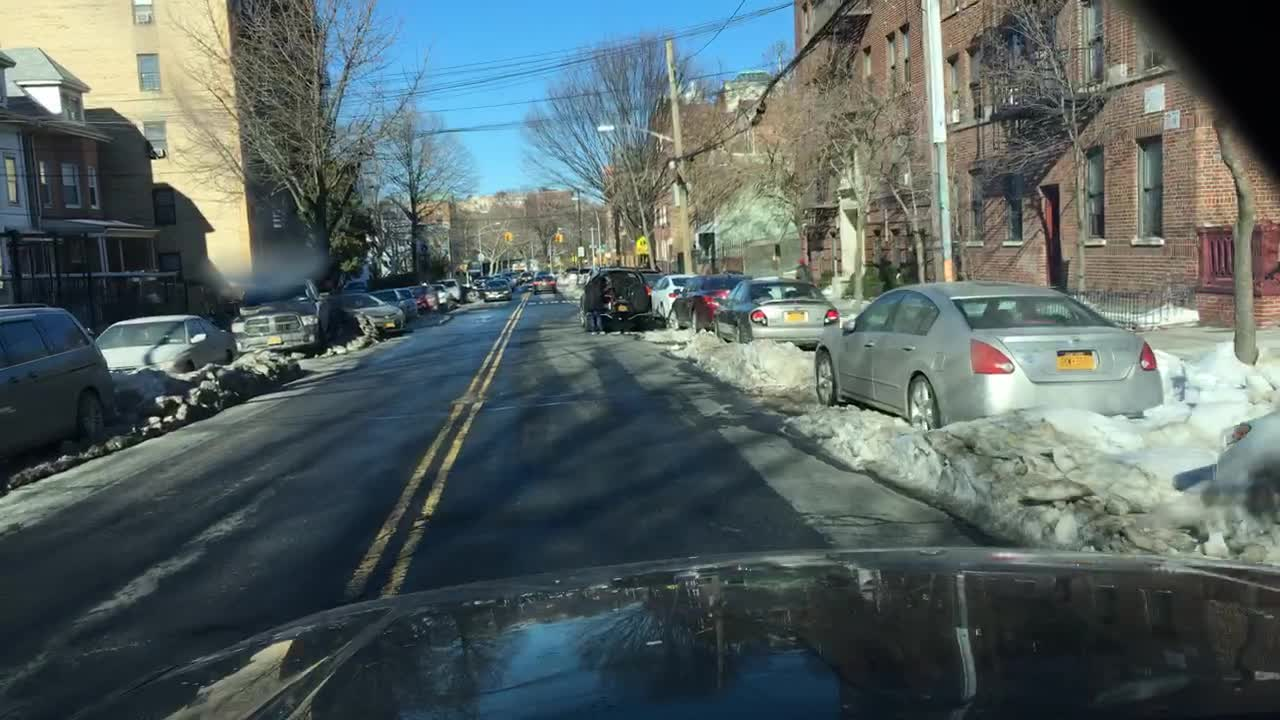car: (813, 281, 1162, 432), (0, 301, 116, 475), (706, 276, 840, 349), (1207, 398, 1277, 522), (93, 314, 232, 376), (232, 297, 326, 352), (667, 272, 755, 330), (584, 267, 650, 334), (325, 290, 403, 333), (650, 272, 700, 329), (369, 287, 417, 320), (481, 279, 512, 300), (410, 285, 433, 313), (429, 282, 453, 308), (434, 277, 461, 300), (533, 274, 556, 293), (641, 271, 663, 290), (574, 295, 586, 329), (461, 281, 480, 298), (577, 266, 593, 285), (472, 274, 490, 290), (518, 270, 531, 286), (498, 274, 515, 286), (562, 264, 575, 275), (507, 270, 519, 281), (535, 270, 546, 278)
traffic light: (556, 232, 562, 243), (504, 231, 510, 241)
traffic sign: (634, 233, 649, 255)
